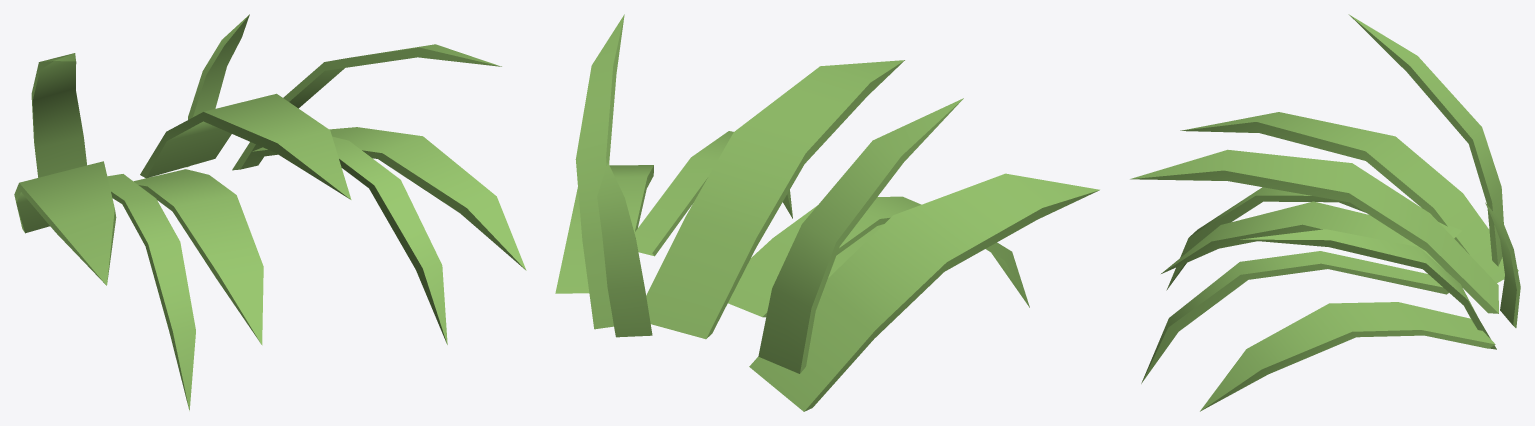
The model's file is caoc02.FBX.
3 renders of one model, left to right at view 1: azimuth 30°, elevation 25°; view 2: azimuth 150°, elevation 25°; view 3: azimuth 270°, elevation 25°, orthographic. The views are drawn at different scales.
Parts seen in each view (by area): view 1: caoc02; view 2: caoc02; view 3: caoc02.
Boxes of the visible parts, box(x1,y1,x2,y2) form: caoc02: box(14, 14, 526, 410); caoc02: box(555, 14, 1099, 411); caoc02: box(1130, 14, 1520, 411).
Size of the model in its own units: 39.11 by 24.63 by 33.45.
